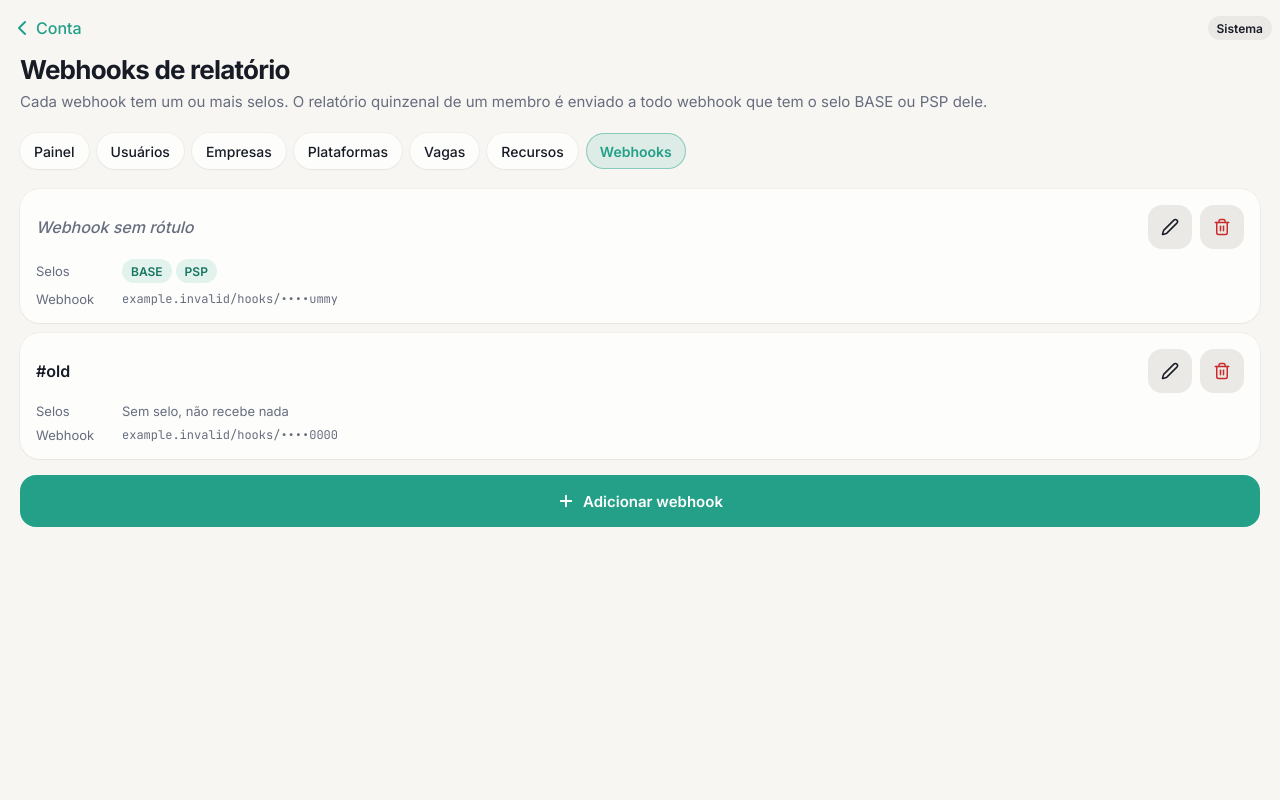
the v3 admin boards in Portuguese below md › Report webhooks, with the add, edit and delete sheets open
Check: the text "Webhook sem rótulo" is shown, box [36,217,194,237]
Check: the text "Sem selo, não recebe nada" is shown, box [122,403,289,419]
Click the button "Adicionar webhook": (640, 501) [20,475,1260,527]
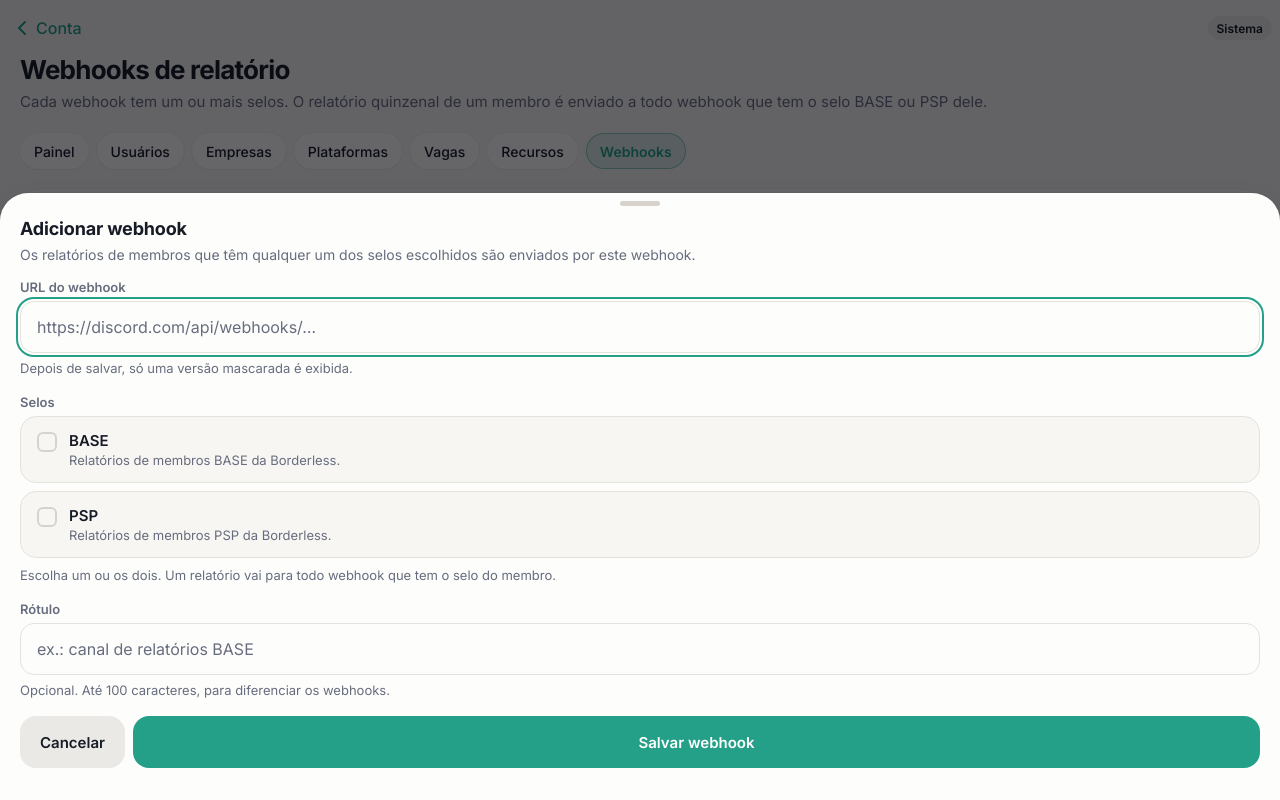
Click the button "Salvar webhook": (696, 742) [133,716,1260,768]
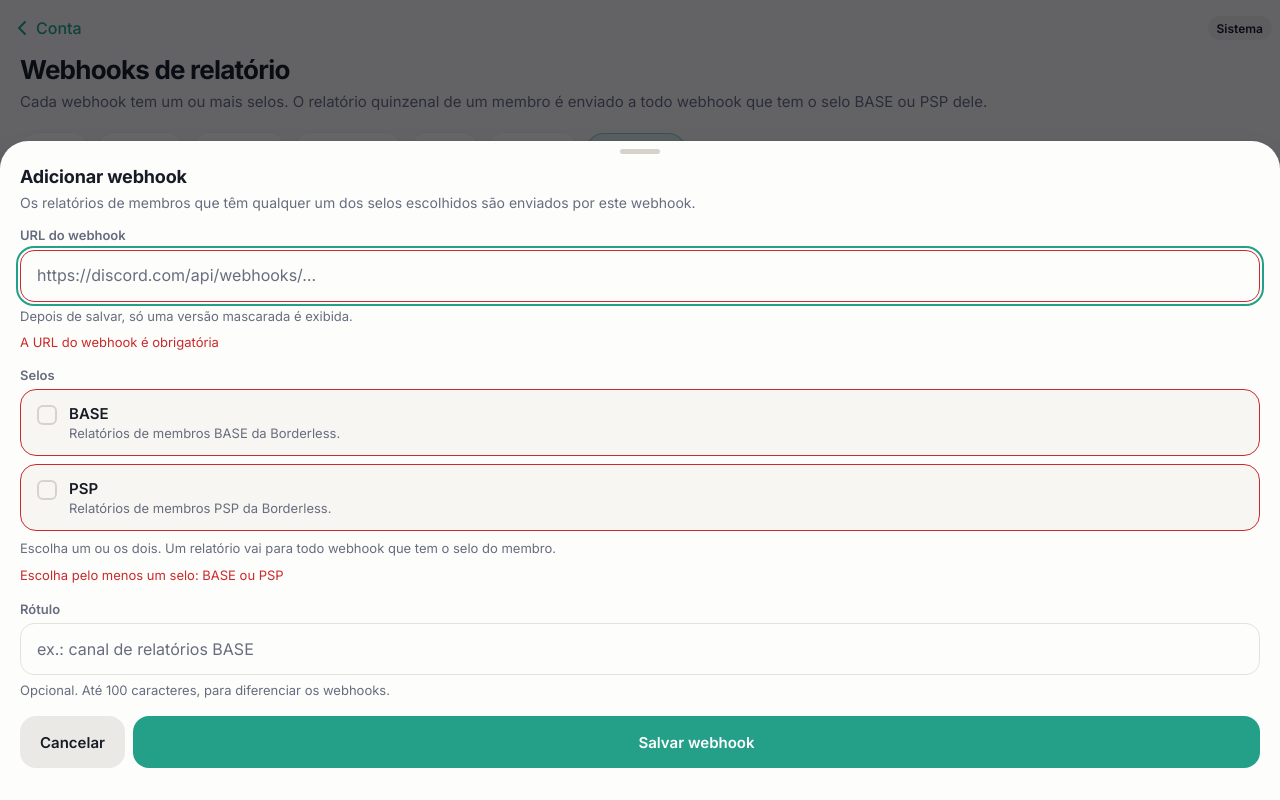
Check: the text "A URL do webhook é obrigatória" is shown, box [20,334,219,350]
Click the button "Cancelar": (72, 742) [20,716,125,768]
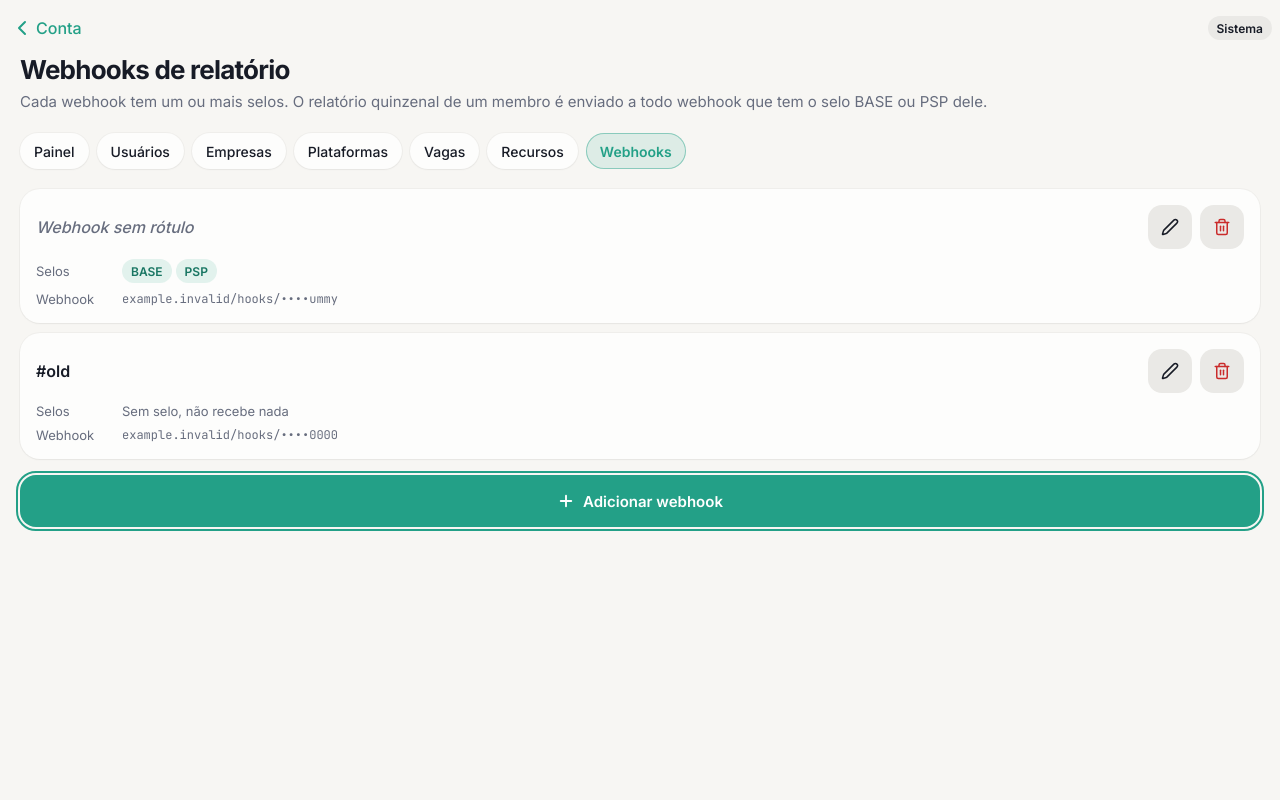
Check: the dialog is gone
Click the button named "Editar #old": (1170, 371) [1148,349,1192,393]
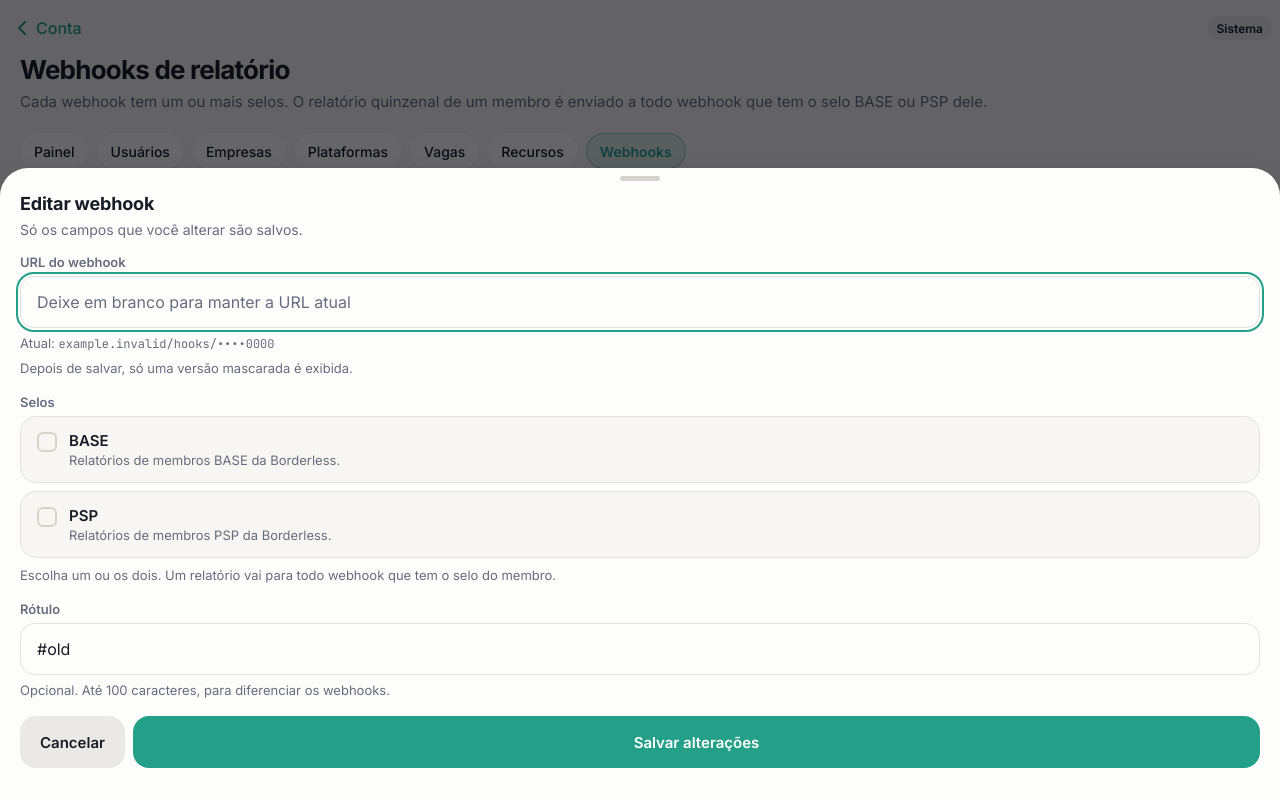
Check: the text "Atual: example.invalid/hooks/••••0000" is shown, box [20,335,274,352]
Check: the button "Salvar alterações" is shown, box [133,716,1260,768]
Click the button "Cancelar": (72, 742) [20,716,125,768]
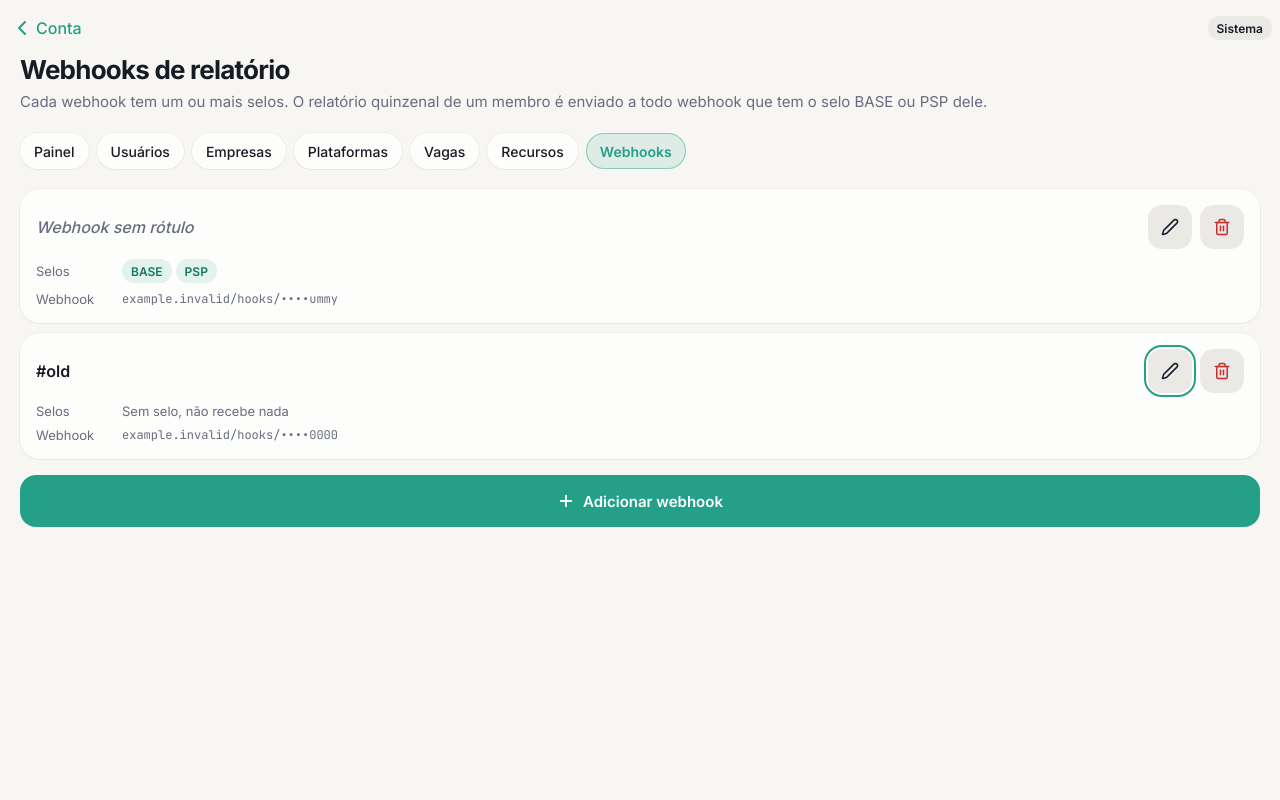
Check: the dialog is gone
Click the button named "Excluir #old": (1222, 371) [1200,349,1244,393]
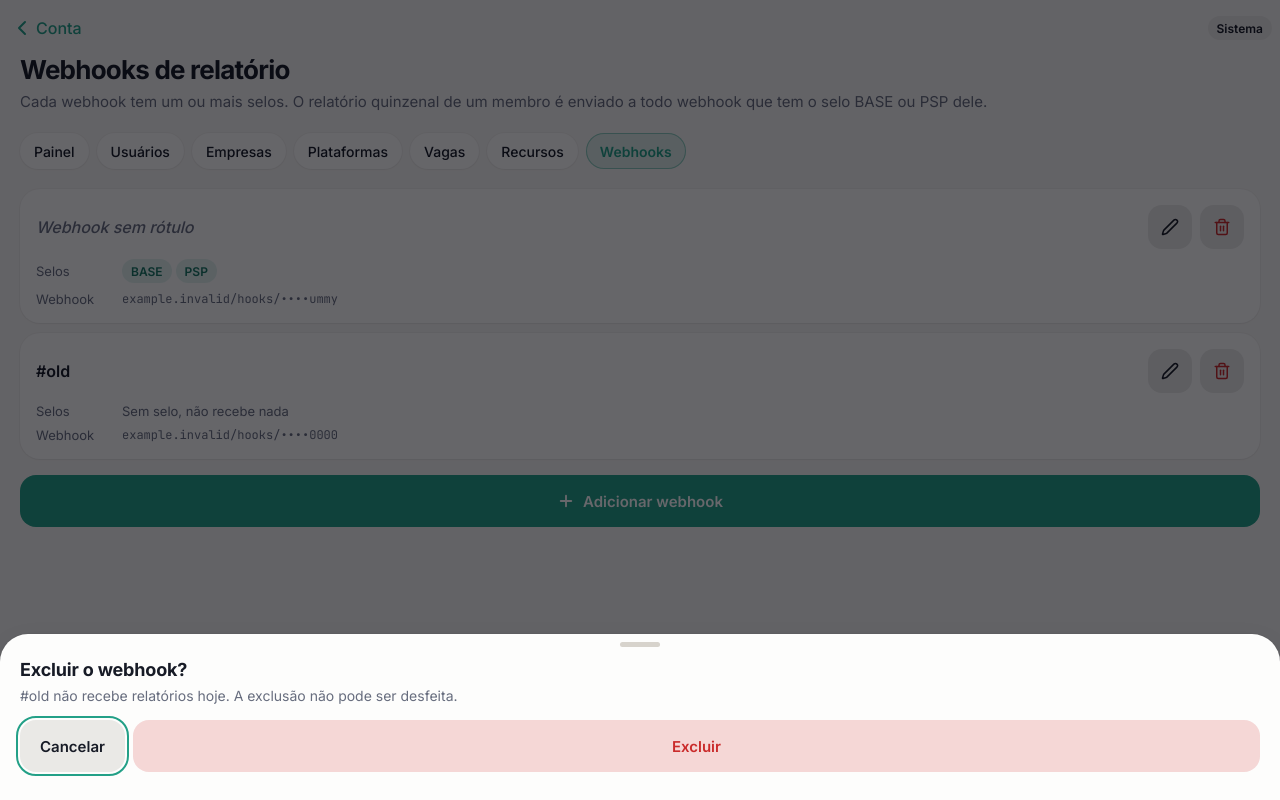
Check: the button "Excluir" is shown, box [133,720,1260,772]
